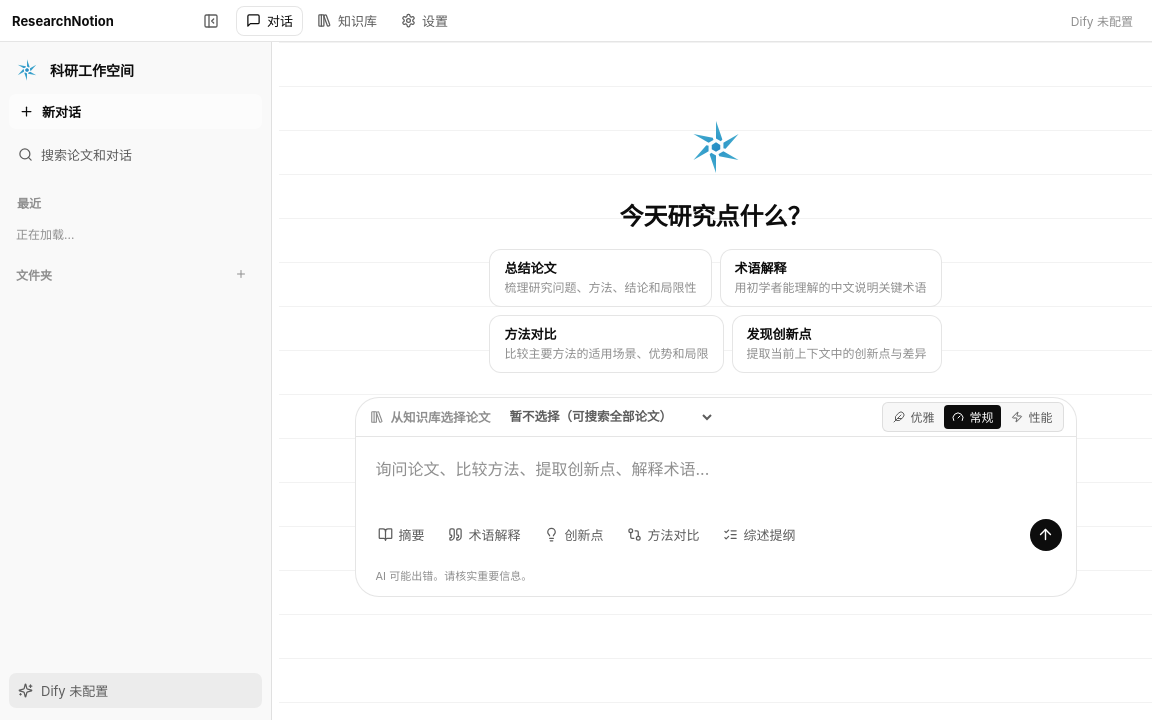
Test: App shell › searches conversations and papers and opens the selected result
Press k
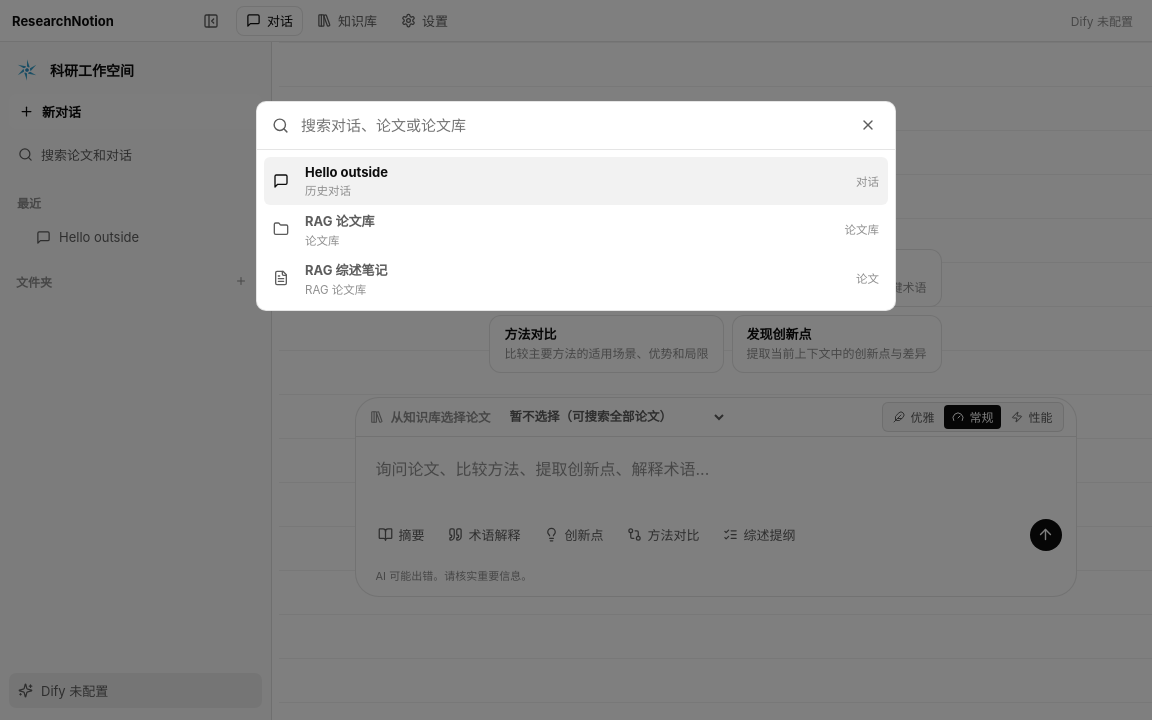
Type "Hello" into the field named "搜索工作区" at (571, 125), box [299,102,843,149]
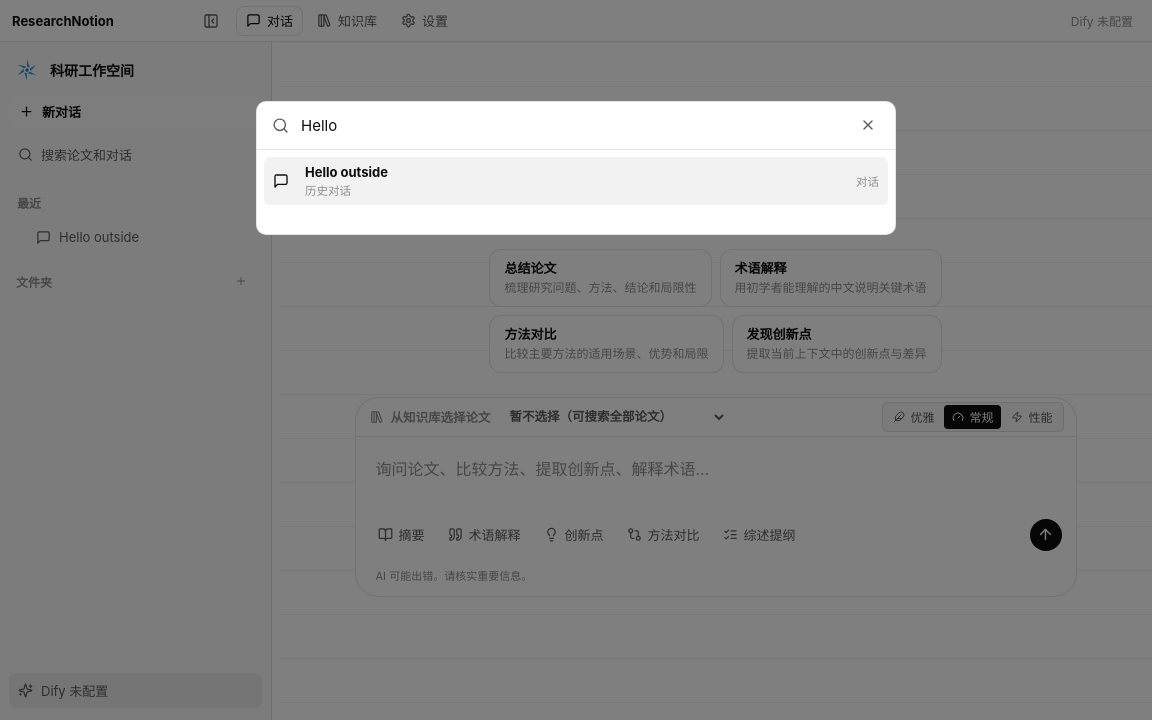
Click the button with aria-label "打开对话 Hello outside" at (347, 172), box [264,157,888,205]
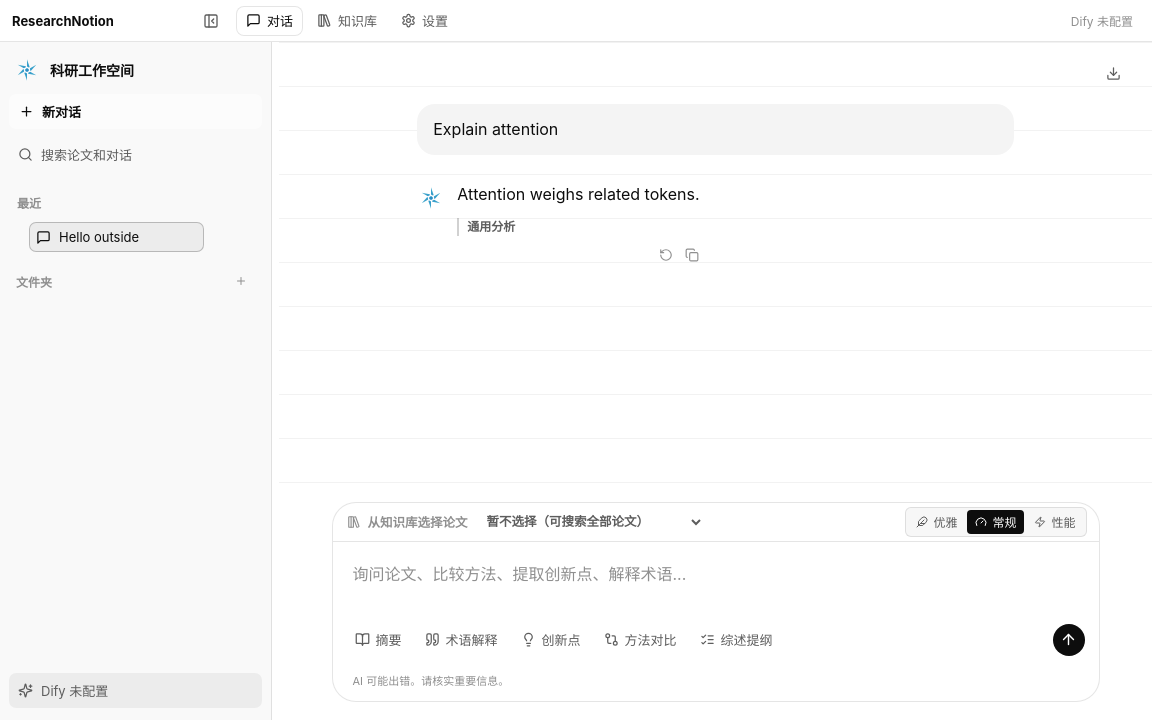
Now the text "Explain attention" is shown, box [433,119,558,139]
Press k
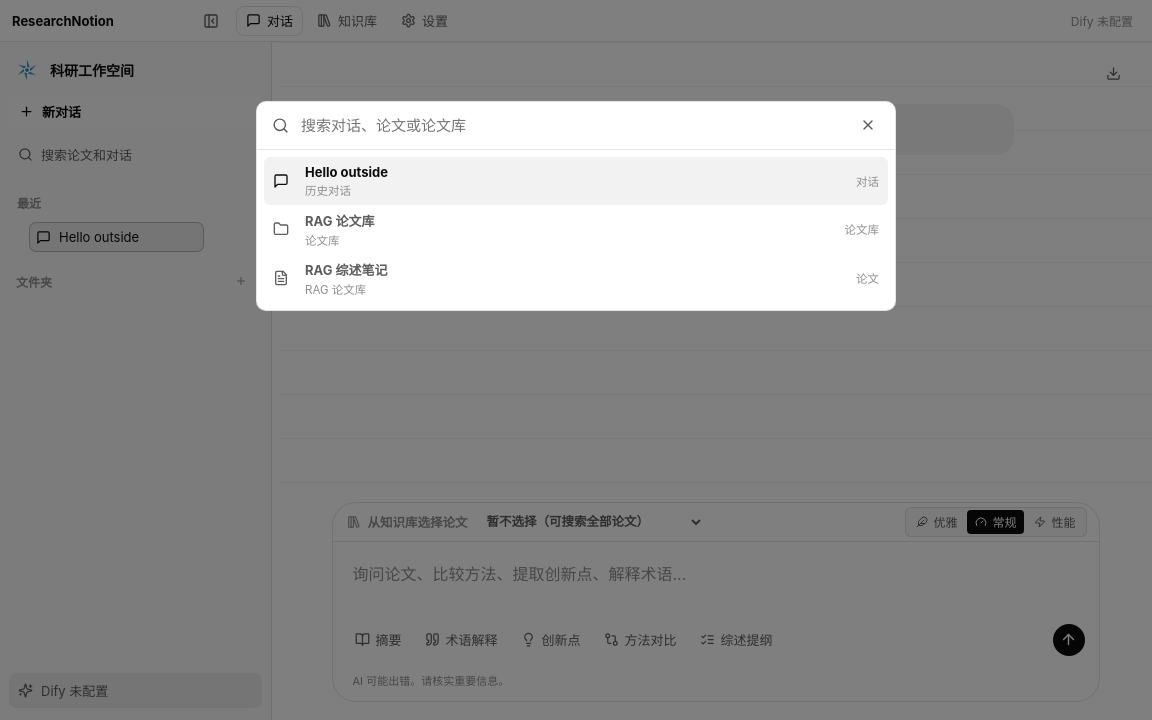
Type "RAG 综述" into the field named "搜索工作区" at (571, 125), box [299,102,843,149]
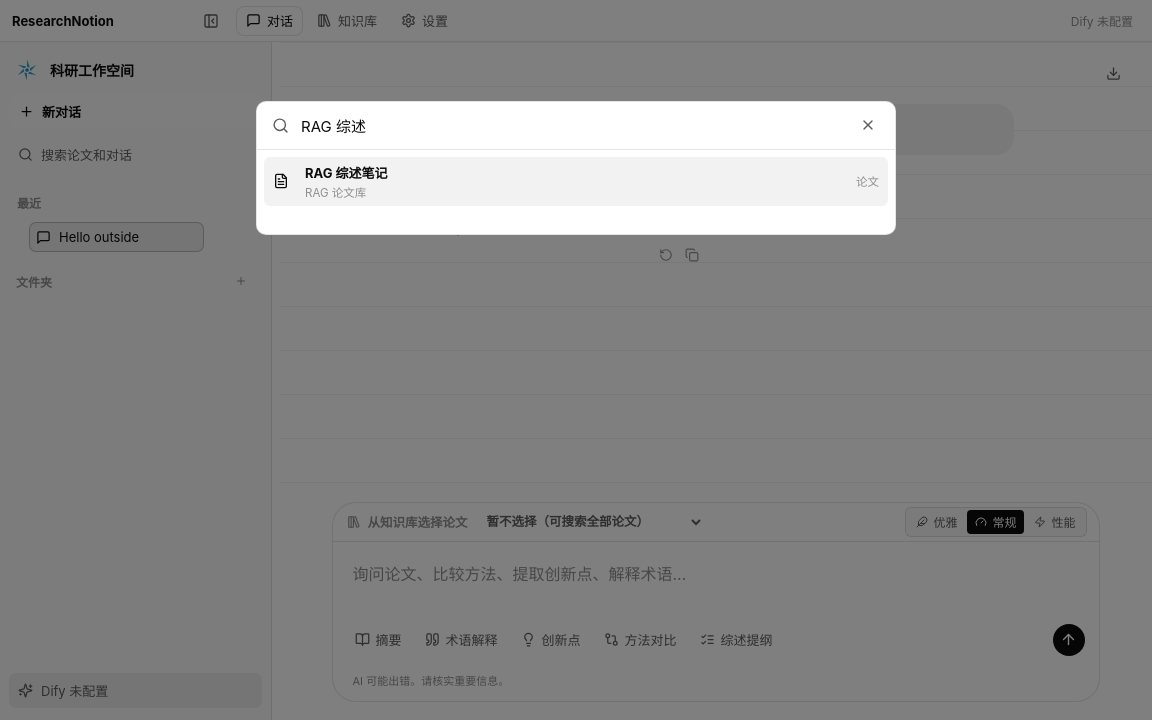
Click the button with aria-label "打开论文 RAG 综述笔记" at (346, 173), box [264,157,888,206]
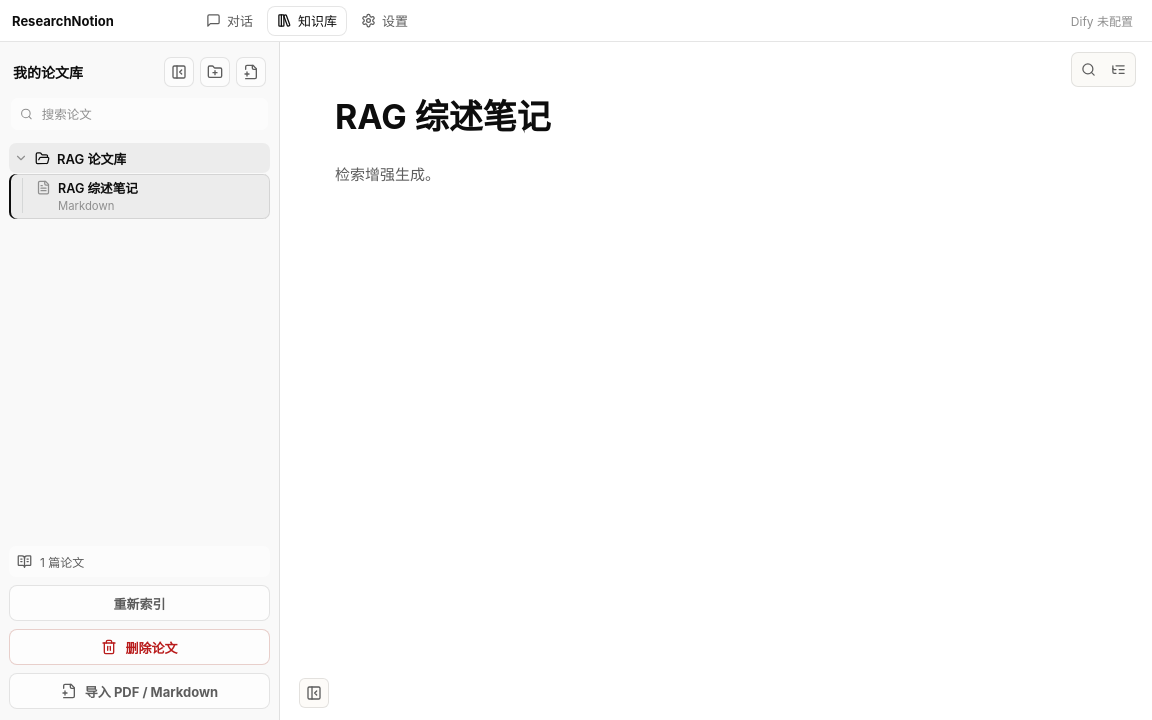
Now the heading "RAG 综述笔记" is shown, box [335,96,551,137]
